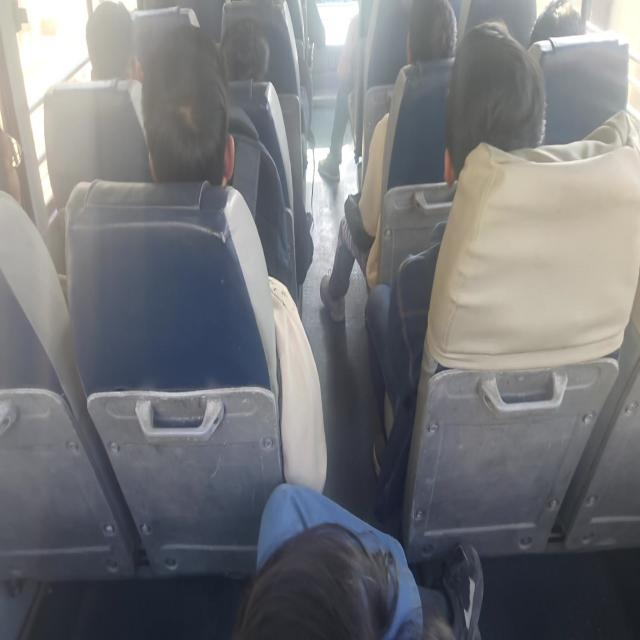person: (232, 516, 408, 640), (422, 52, 530, 197), (147, 34, 235, 203), (208, 8, 285, 102), (0, 96, 38, 225), (78, 0, 141, 75), (398, 9, 477, 64), (514, 0, 586, 47)
